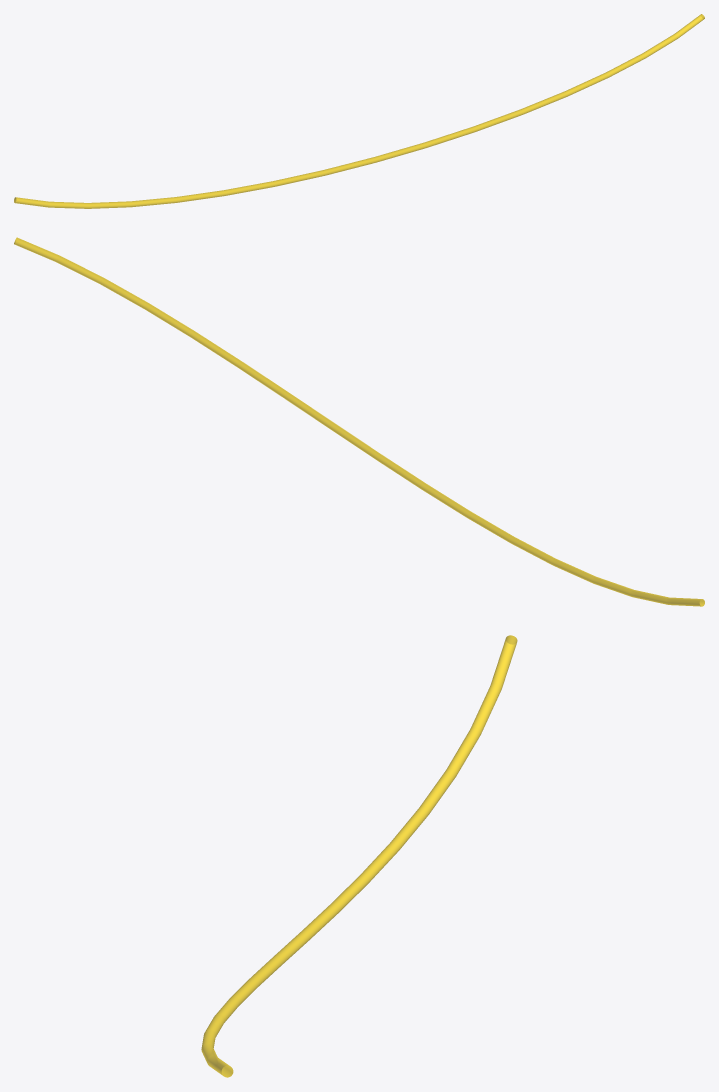
File: Event_17758602_track_160.fbx
The picture shows the model from 3 angles, top to bottom: view 1: azimuth 30°, elevation 25°; view 2: azimuth 150°, elevation 25°; view 3: azimuth 270°, elevation 25°; orthographic projection. The views are drawn at different scales.
Visible parts, largest first — view 1: Model; view 2: Model; view 3: Model.
Part boxes in pixels (bbox=[...]): Model: bbox=[14, 14, 704, 208]; Model: bbox=[14, 237, 704, 606]; Model: bbox=[201, 635, 517, 1077].
Size of the model in its own units: 4.74 by 0.7927 by 1.05.
